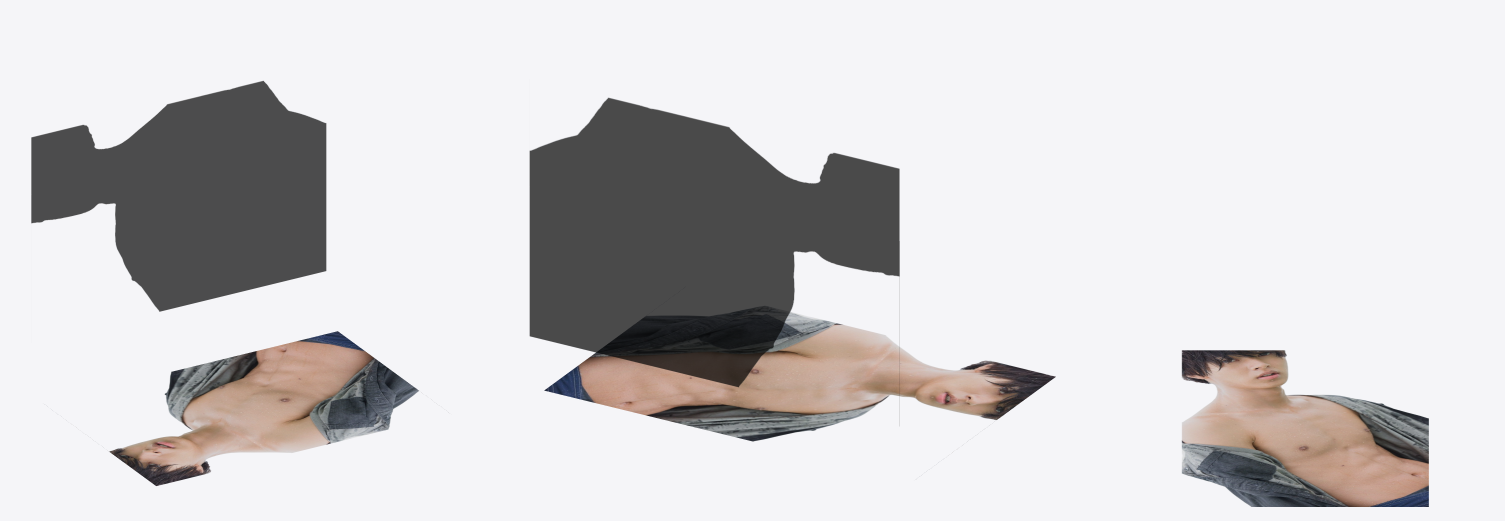
3 renders of one model, left to right at view 1: azimuth 30°, elevation 25°; view 2: azimuth 150°, elevation 25°; view 3: azimuth 270°, elevation 25°, orthographic. The views are drawn at different scales.
Visible parts, largest first — view 1: 平面.002, 平面; view 2: 平面.002, 平面; view 3: 平面.
Boxes of the visible parts, box(x1,y1,x2,y2) form: 平面.002: box(31, 81, 326, 311); 平面: box(109, 331, 418, 485); 平面.002: box(529, 97, 899, 387); 平面: box(544, 306, 1055, 441); 平面: box(1181, 350, 1428, 506).
Size of the model in its own units: 2 by 2 by 2.
Materials: 2 (2 with a texture image).
